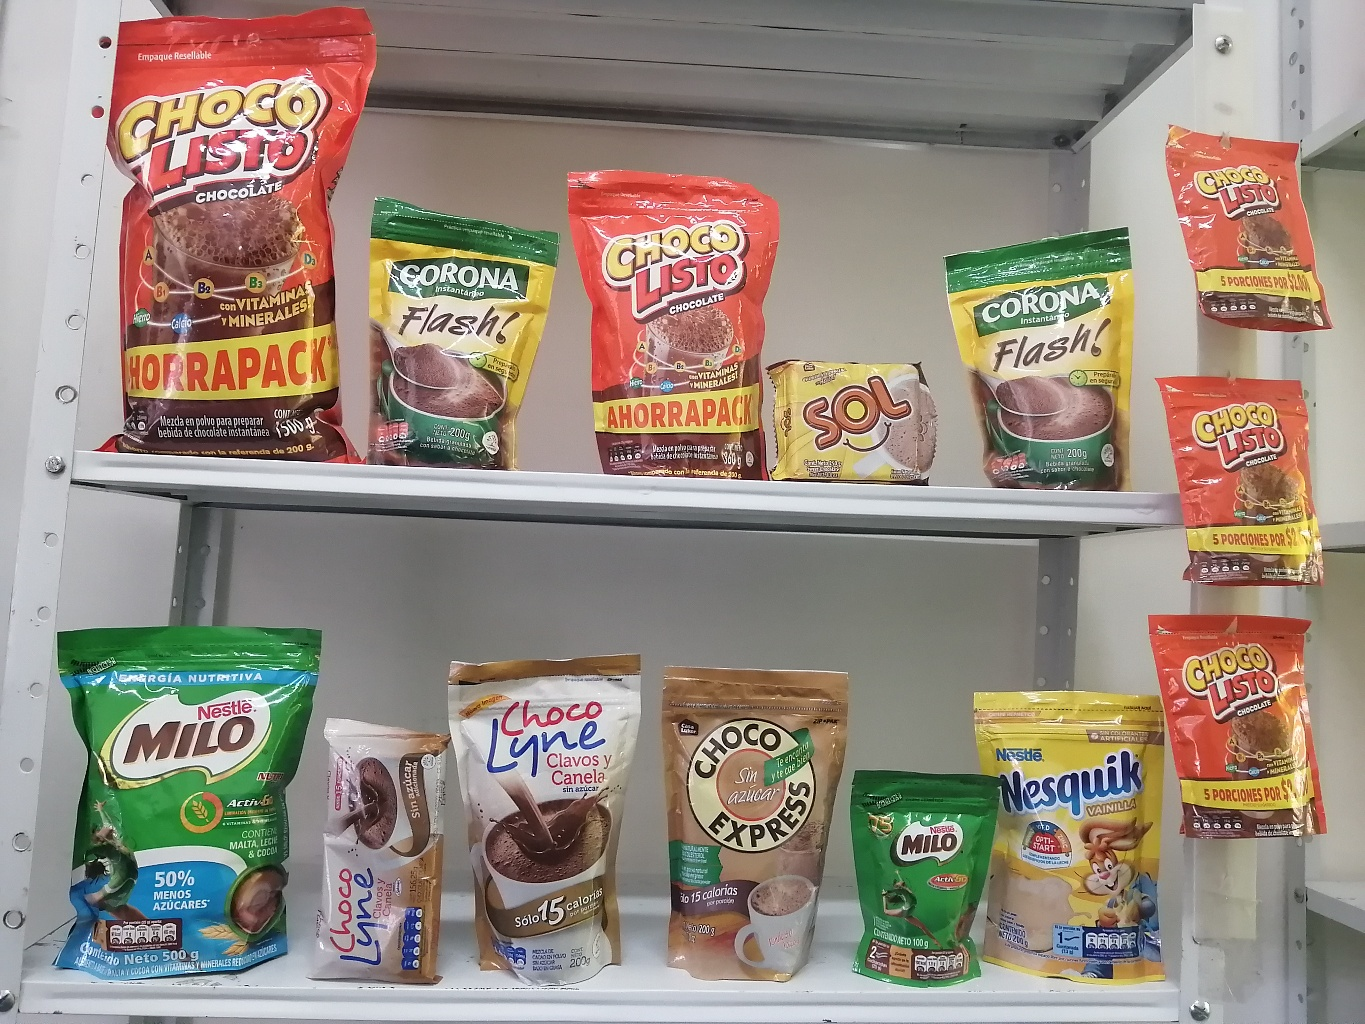COL0170103DYP1,500: (60, 0, 411, 485)
COL0170103DYP36000: (550, 156, 783, 490)
COL0170203DYP10000: (831, 750, 1013, 997)
COL0170205DYP50000: (35, 599, 323, 987)
COL0170306DYP20000: (954, 666, 1195, 985)
